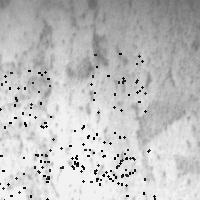pitted_surface: (66, 29, 157, 180), (1, 19, 56, 197), (71, 127, 129, 183), (37, 125, 97, 178), (90, 53, 144, 111), (96, 149, 154, 200), (0, 69, 50, 127), (0, 154, 49, 200)
